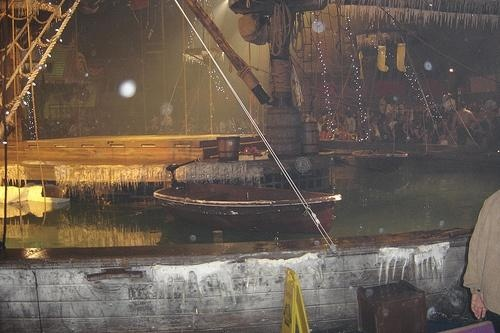boat: (151, 178, 349, 236), (351, 143, 411, 176)
